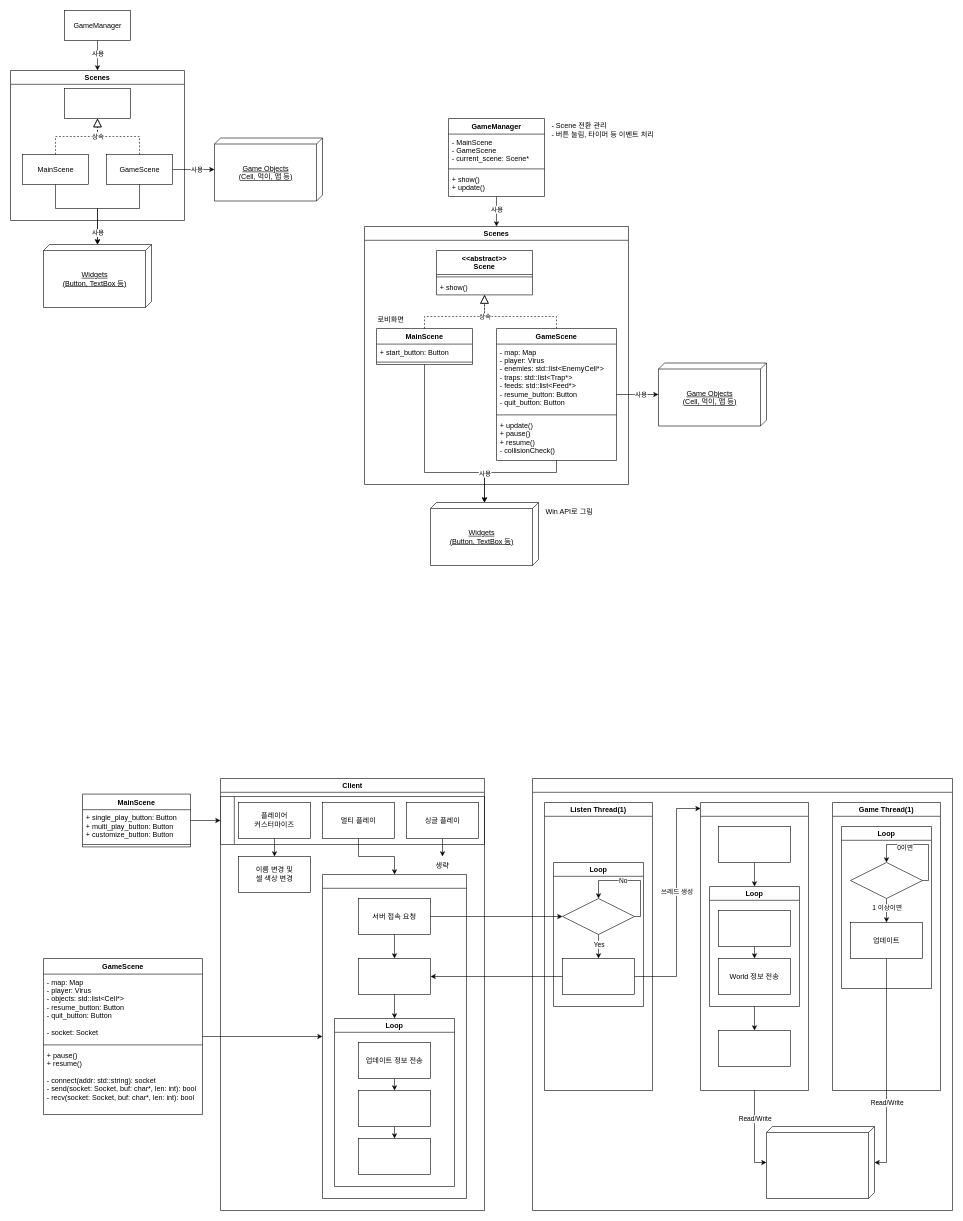
Image size: 963x1221. Some labels were removed from this diagram. The box of each missing label's shape, as (x1, y1, x2, y2) in pixels:
Client Thread(n): (700, 802, 808, 1090)
Server: (532, 778, 952, 1210)
World 객체들을 담는 컨테이너: (766, 1126, 874, 1198)
World에 플레이어 추가: (718, 826, 790, 862)
World에서 플레이어 삭제: (718, 1030, 790, 1066)
«abstract» Scene: (64, 88, 130, 118)
렌더링: (358, 1138, 430, 1174)
버튼 선택: (220, 796, 484, 844)
아이디 부여: (562, 958, 634, 994)
업데이트 정보 수신: (358, 1090, 430, 1126)
연결 관리: (322, 874, 466, 1198)
초기 정보 수신: (358, 958, 430, 994)
클라이언트 개수 확인: (850, 862, 922, 898)
클라이언트 접속: (562, 898, 634, 934)
클라이언트 정보 수신: (718, 910, 790, 946)
